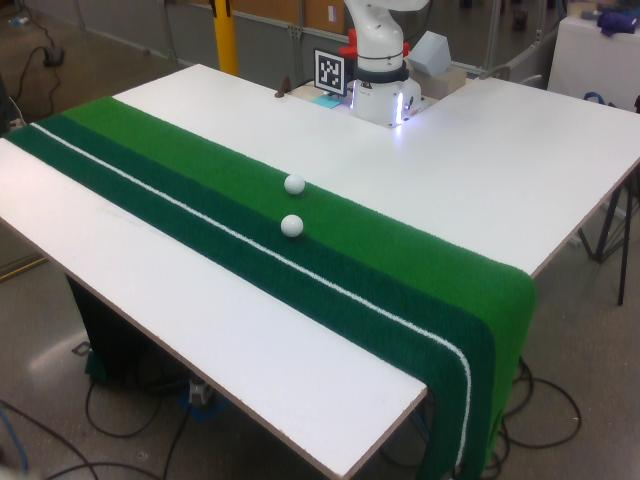golf_balls: (281, 214, 303, 237), (284, 174, 305, 195)
